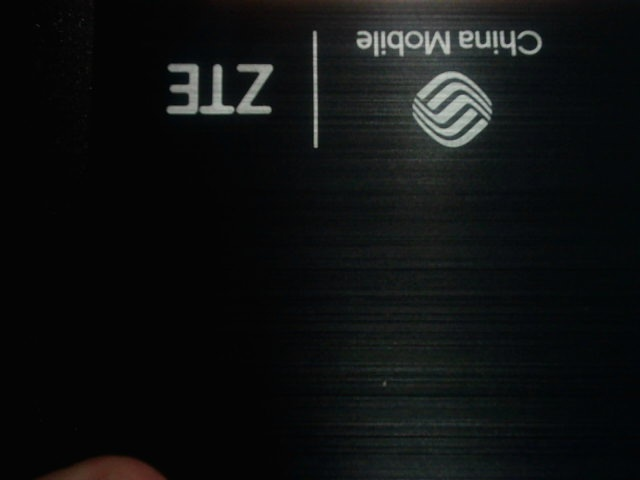AL_ZTEChinaMobile: (148, 12, 563, 153)
